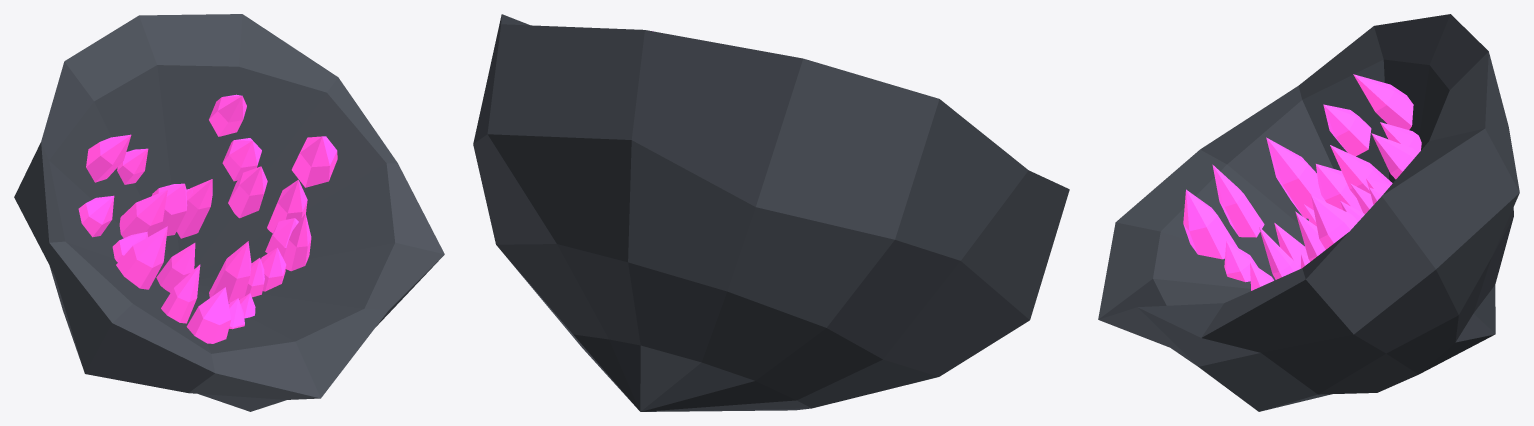
The model's file is PROP_10_CrystalGeode.fbx.
3 views of the same model, side by side, from view 1: azimuth 30°, elevation 25°; view 2: azimuth 150°, elevation 25°; view 3: azimuth 270°, elevation 25° (orthographic). The views are drawn at different scales.
Visible parts, largest first — view 1: PROP_10_CrystalGeode; view 2: PROP_10_CrystalGeode; view 3: PROP_10_CrystalGeode.
Part boxes in pixels (left/top/right/bottom): PROP_10_CrystalGeode: left=14, top=14, right=444, bottom=411; PROP_10_CrystalGeode: left=473, top=14, right=1069, bottom=411; PROP_10_CrystalGeode: left=1098, top=14, right=1519, bottom=411.
Bounding box in the file's own units: 161 × 138 × 155.
